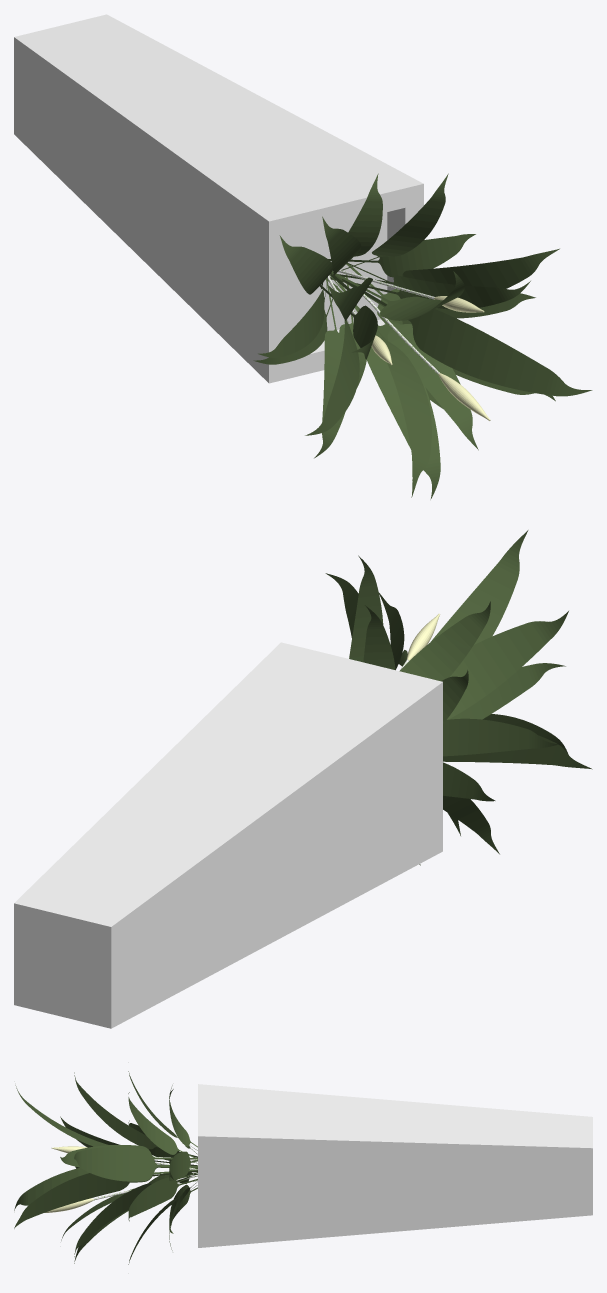
The picture shows the model from 3 angles, top to bottom: view 1: azimuth 30°, elevation 25°; view 2: azimuth 150°, elevation 25°; view 3: azimuth 270°, elevation 25°; orthographic projection. The views are drawn at different scales.
Parts seen in each view (by area): view 1: arranjo planta original graham; view 2: arranjo planta original graham; view 3: arranjo planta original graham.
Part boxes in pixels (x1,y1,x2,y2): arranjo planta original graham: [14, 14, 592, 499]; arranjo planta original graham: [14, 530, 592, 1028]; arranjo planta original graham: [14, 1071, 592, 1264].
Size of the model in its own units: 17.77 by 17.26 by 46.15.
